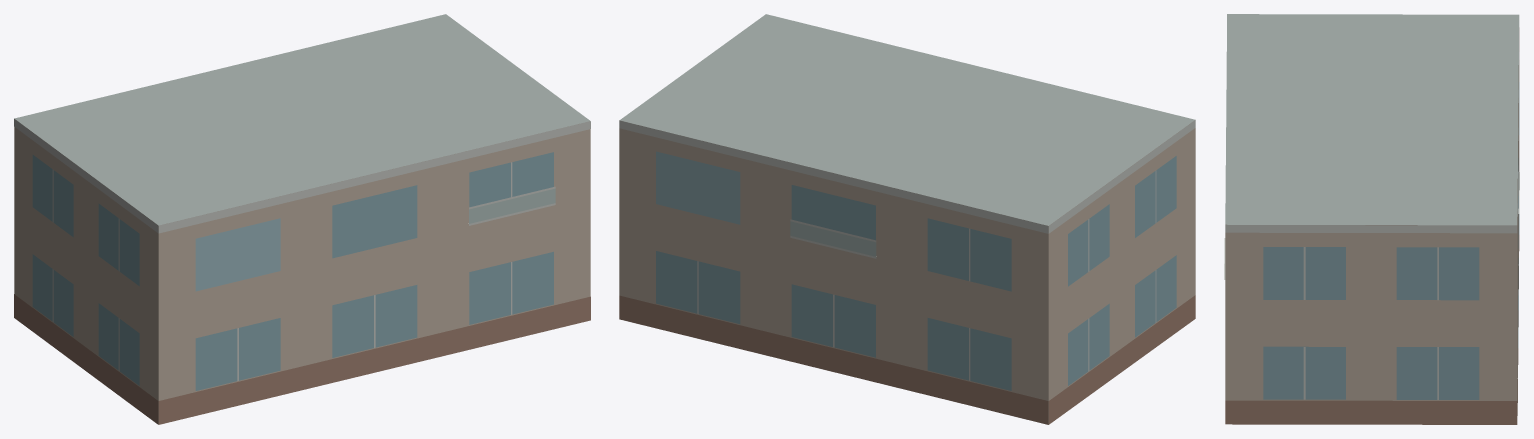
The model's file is survey-upis-32815227.glb.
The picture shows the model from 3 angles, left to right: view 1: azimuth 30°, elevation 25°; view 2: azimuth 150°, elevation 25°; view 3: azimuth 270°, elevation 25°; orthographic projection.
Parts seen in each view (by area): view 1: survey-upis-32815227.tmp; view 2: survey-upis-32815227.tmp; view 3: survey-upis-32815227.tmp.
Boxes of the visible parts, x1,y1,x2,y2 form: survey-upis-32815227.tmp: (14, 14, 590, 424); survey-upis-32815227.tmp: (619, 14, 1195, 424); survey-upis-32815227.tmp: (1224, 14, 1519, 424).
Bounding box in the file's own units: 13.86 × 6.1 × 8.2.
